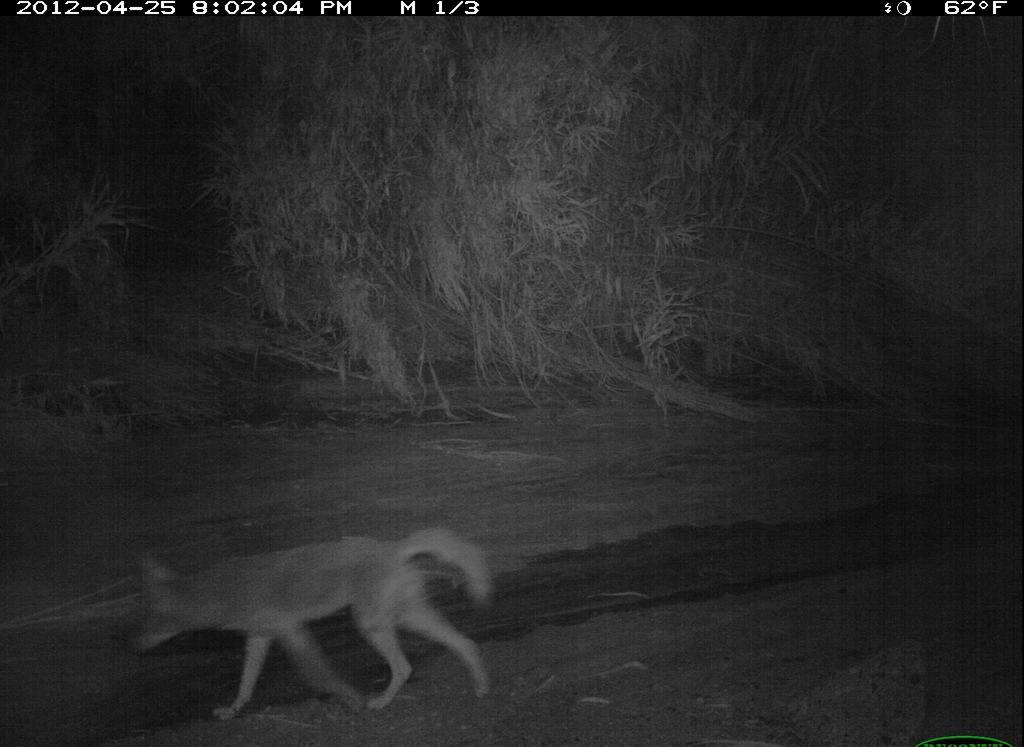coyote: (120, 515, 502, 724)
